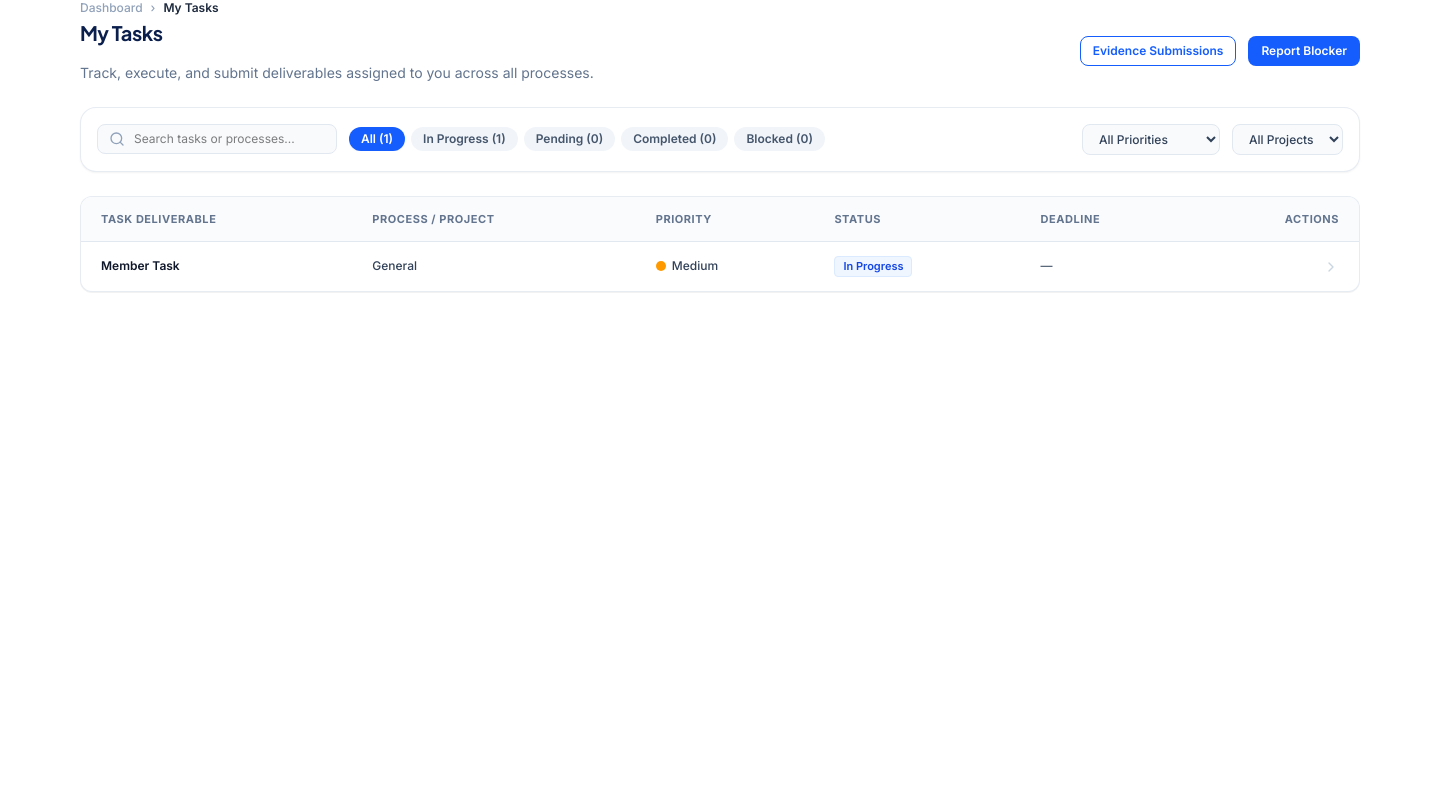
Test case: Step 3 UI & Workflow Fixes › Member Tasks Report Blocker button opens ReportBlockerModal directly
Click the button "Report Blocker" at (1304, 51), box [1248, 36, 1360, 66]
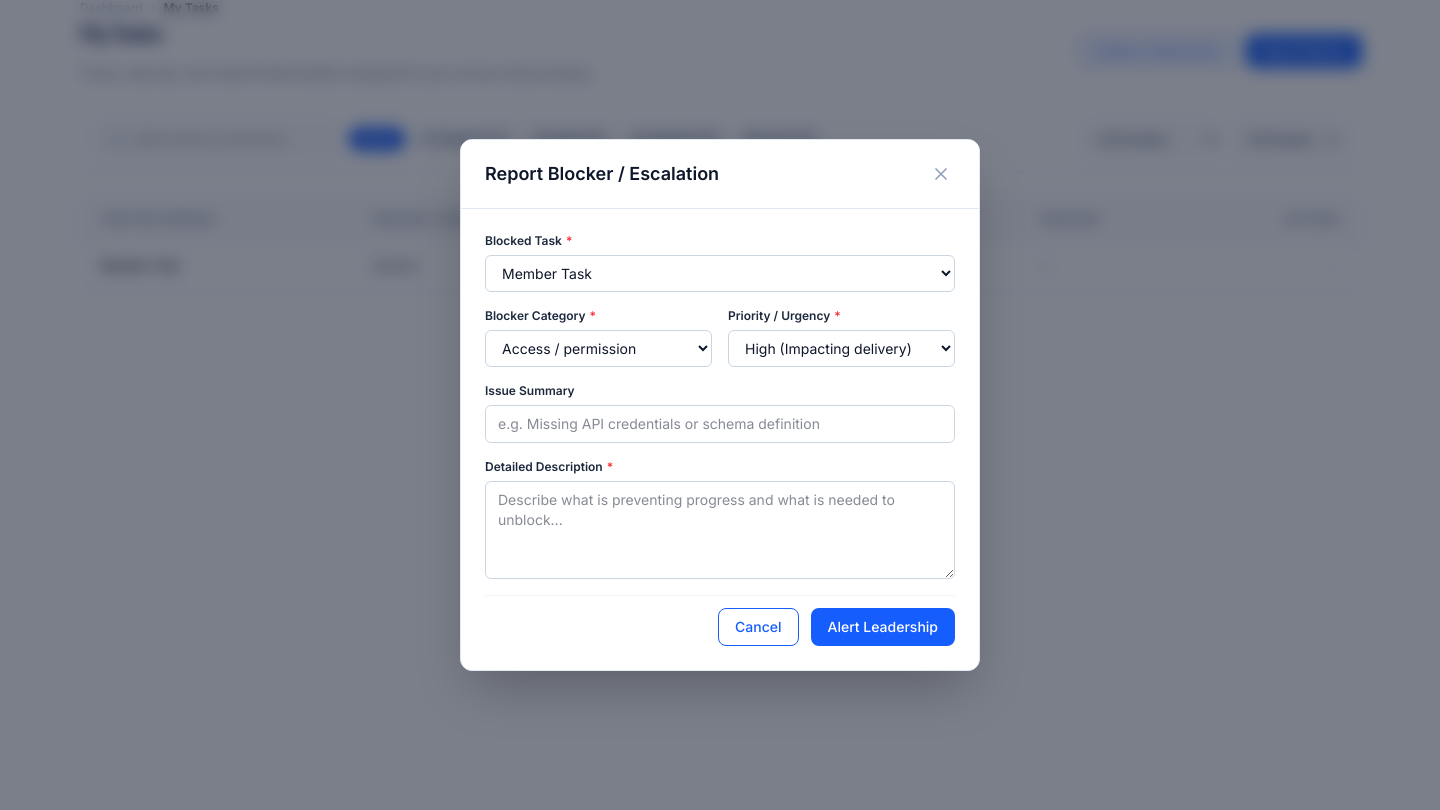
Result: the heading "Report Blocker / Escalation" is shown at [485, 160, 719, 188]
